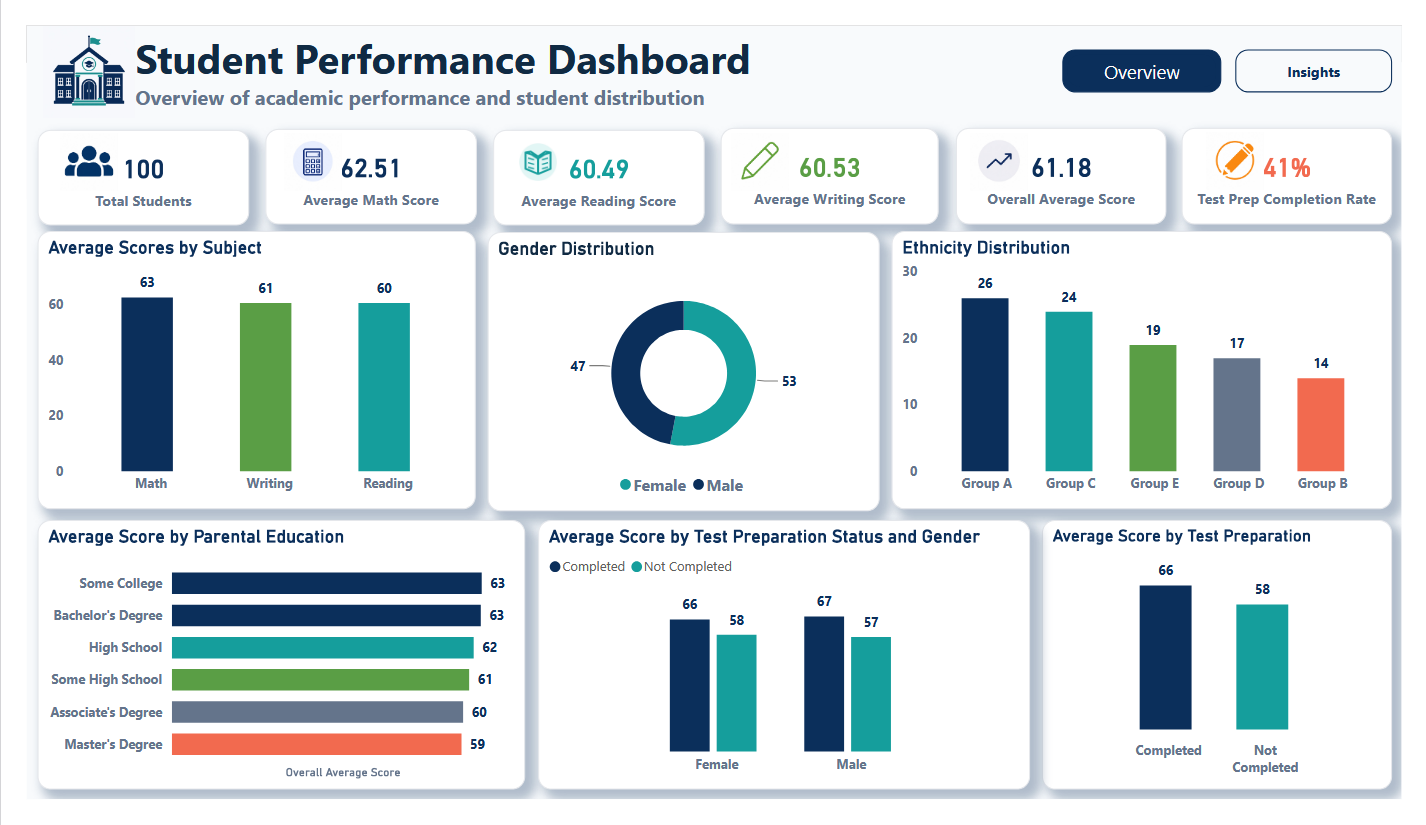

The page's visual inventory and layout, read from the dashboard file:
{"tool":"powerbi","page":{"name":"Overview","canvas":[1280,720],"ordinal":0},"visuals":[{"type":"textbox","box":[95.5,0,615.3,85.8],"z":0},{"type":"image","box":[0,0,115,85.8],"z":1000},{"type":"card","fields":{"Values":["Student Performance.Total Students"]},"box":[9.7,97.2,197.5,89.1],"z":2000},{"type":"card","fields":{"Values":["Student Performance.Average Math Score"]},"box":[221.8,95.5,197.5,89.1],"z":3000},{"type":"card","fields":{"Values":["Student Performance.Average Reading Score"]},"box":[434.2,97,197.2,89.1],"z":4000},{"type":"card","fields":{"Values":["Student Performance.Average Writing Score"]},"box":[645.8,95.4,203.6,89.1],"z":5000},{"type":"card","fields":{"Values":["Student Performance.Overall Average Score"]},"box":[865.3,95.4,195.6,89.1],"z":6000},{"type":"card","fields":{"Values":["Student Performance.Test Prep Completion Rate"]},"box":[1075.3,95.4,195.6,89.1],"z":7000},{"type":"clusteredColumnChart","title":"Average Scores by Subject","fields":{"Category":["Subject Table.Subject"],"Y":["Student Performance.Average Score by Subject"]},"box":[9.5,190.9,408.8,259.3],"z":8000},{"type":"donutChart","title":"Gender Distribution","fields":{"Category":["Student Performance.Gender"],"Y":["Student Performance.Total Students"]},"box":[429.5,192.5,364.2,259.3],"z":9000},{"type":"clusteredColumnChart","title":"Ethnicity Distribution","fields":{"Category":["Student Performance.Ethnicity"],"Y":["Student Performance.Total Students"]},"box":[804.8,190.9,466,259.3],"z":10000},{"type":"clusteredColumnChart","title":"Average Score by Test Preparation ","fields":{"Category":["Student Performance.Test Preparation Status"],"Y":["Student Performance.Overall Average Score"]},"box":[944.8,459.7,326.1,251.3],"z":11000},{"type":"clusteredBarChart","title":"Average Score by Parental Education","fields":{"Category":["Student Performance.Parental Education"],"Y":["Student Performance.Overall Average Score"]},"box":[9.5,459.7,454.9,251.3],"z":12000},{"type":"clusteredColumnChart","title":"Average Score by Test Preparation Status and Gender","fields":{"Category":["Student Performance.Gender"],"Y":["Student Performance.Overall Average Score"],"Series":["Student Performance.Test Preparation Status"]},"box":[475.6,459.7,458.1,251.3],"z":13000},{"type":"image","box":[28.6,100.2,57.3,54.1],"z":14000},{"type":"image","box":[237,100.2,57.3,54.1],"z":15000},{"type":"image","box":[447,100.2,57.3,54.1],"z":16000},{"type":"image","box":[653.7,100.2,57.3,54.1],"z":17000},{"type":"image","box":[876.4,100.2,57.3,54.1],"z":18000},{"type":"image","box":[1095.9,98.6,57.3,54.1],"z":19000},{"type":"actionButton","box":[963.9,22.3,147.9,39.8],"z":20000},{"type":"actionButton","box":[1124.6,22.3,146.3,39.8],"z":21000}]}

Visuals, with their boxes in screenshot pixels (x1, y1, x2, y2), scaled from the page's 1280x720 canvas onto the 1426x825 screenshot:
textbox: bbox=(106, 0, 792, 98)
image: bbox=(0, 0, 128, 98)
card - Student Performance.Total Students: bbox=(11, 111, 231, 213)
card - Student Performance.Average Math Score: bbox=(247, 109, 467, 212)
card - Student Performance.Average Reading Score: bbox=(484, 111, 703, 213)
card - Student Performance.Average Writing Score: bbox=(719, 109, 946, 211)
card - Student Performance.Overall Average Score: bbox=(964, 109, 1182, 211)
card - Student Performance.Test Prep Completion Rate: bbox=(1198, 109, 1416, 211)
"Average Scores by Subject" clusteredColumnChart: bbox=(11, 219, 466, 516)
"Gender Distribution" donutChart: bbox=(478, 221, 884, 518)
"Ethnicity Distribution" clusteredColumnChart: bbox=(897, 219, 1416, 516)
"Average Score by Test Preparation " clusteredColumnChart: bbox=(1053, 527, 1416, 815)
"Average Score by Parental Education" clusteredBarChart: bbox=(11, 527, 517, 815)
"Average Score by Test Preparation Status and Gender" clusteredColumnChart: bbox=(530, 527, 1040, 815)
image: bbox=(32, 115, 96, 177)
image: bbox=(264, 115, 328, 177)
image: bbox=(498, 115, 562, 177)
image: bbox=(728, 115, 792, 177)
image: bbox=(976, 115, 1040, 177)
image: bbox=(1221, 113, 1285, 175)
actionButton: bbox=(1074, 26, 1239, 71)
actionButton: bbox=(1253, 26, 1416, 71)
